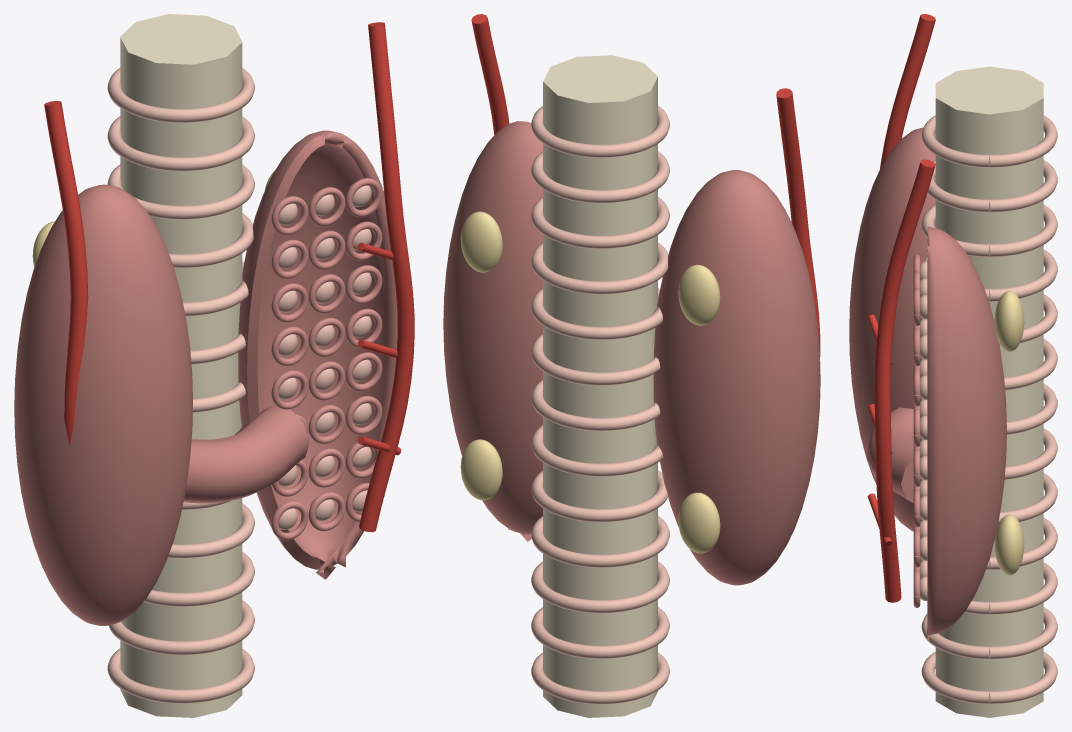
Rendered from thyroid.82441e2c.glb.
3 renders of one model, left to right at view 1: azimuth 30°, elevation 25°; view 2: azimuth 150°, elevation 25°; view 3: azimuth 270°, elevation 25°, orthographic. The views are drawn at different scales.
Parts seen in each view (by area): view 1: Right thyroid lobe, Trachea, Left thyroid lobe, Thyroid artery 1, Isthmus, Thyroid artery -1, Tracheal cartilage 0, Tracheal cartilage 11, Tracheal cartilage 12, Tracheal cartilage 1, Tracheal cartilage 10, Tracheal cartilage 2 (+25 smaller); view 2: Trachea, Right thyroid lobe, Left thyroid lobe, Thyroid artery -1, Tracheal cartilage 3, Tracheal cartilage 12, Tracheal cartilage 1, Tracheal cartilage 10, Tracheal cartilage 0, Tracheal cartilage 11, Tracheal cartilage 2, Tracheal cartilage 9 (+10 smaller); view 3: Trachea, Left thyroid lobe, Right thyroid lobe, Thyroid artery 1, Thyroid artery -1, Isthmus, Tracheal cartilage 12, Tracheal cartilage 0, Tracheal cartilage 1, Tracheal cartilage 11, Tracheal cartilage 10, Parathyroid gland.003 (+9 smaller).
Boxes of the visible parts, x1=… form: Right thyroid lobe: x1=14, y1=184, x2=192, y2=625; Trachea: x1=120, y1=14, x2=242, y2=717; Left thyroid lobe: x1=238, y1=130, x2=397, y2=579; Thyroid artery 1: x1=359, y1=22, x2=414, y2=532; Isthmus: x1=183, y1=404, x2=309, y2=503; Thyroid artery -1: x1=44, y1=101, x2=101, y2=598; Tracheal cartilage 0: x1=107, y1=648, x2=254, y2=703; Tracheal cartilage 11: x1=107, y1=116, x2=254, y2=171; Tracheal cartilage 12: x1=107, y1=68, x2=254, y2=122; Tracheal cartilage 1: x1=109, y1=600, x2=254, y2=654; Tracheal cartilage 10: x1=107, y1=164, x2=254, y2=219; Tracheal cartilage 2: x1=143, y1=552, x2=254, y2=606; Trachea: x1=543, y1=55, x2=657, y2=717; Right thyroid lobe: x1=653, y1=170, x2=820, y2=585; Left thyroid lobe: x1=443, y1=121, x2=542, y2=541; Thyroid artery -1: x1=776, y1=88, x2=820, y2=356; Tracheal cartilage 3: x1=531, y1=516, x2=669, y2=567; Tracheal cartilage 12: x1=531, y1=106, x2=669, y2=157; Tracheal cartilage 1: x1=531, y1=607, x2=669, y2=658; Tracheal cartilage 10: x1=531, y1=197, x2=669, y2=248; Tracheal cartilage 0: x1=531, y1=652, x2=669, y2=704; Tracheal cartilage 11: x1=531, y1=151, x2=669, y2=203; Tracheal cartilage 2: x1=531, y1=561, x2=669, y2=613; Tracheal cartilage 9: x1=531, y1=242, x2=668, y2=294; Trachea: x1=935, y1=66, x2=1043, y2=717; Left thyroid lobe: x1=927, y1=227, x2=1006, y2=641; Right thyroid lobe: x1=849, y1=127, x2=935, y2=531; Thyroid artery 1: x1=874, y1=159, x2=935, y2=602; Thyroid artery -1: x1=880, y1=14, x2=935, y2=168; Isthmus: x1=866, y1=407, x2=913, y2=503; Tracheal cartilage 12: x1=921, y1=115, x2=1057, y2=167; Tracheal cartilage 0: x1=921, y1=652, x2=1057, y2=703; Tracheal cartilage 1: x1=921, y1=607, x2=1057, y2=659; Tracheal cartilage 11: x1=927, y1=160, x2=1057, y2=212; Tracheal cartilage 10: x1=921, y1=205, x2=1057, y2=256; Parathyroid gland.003: x1=994, y1=291, x2=1024, y2=351.
Bounding box in the file's own units: 2.3 × 3.8 × 1.19.
